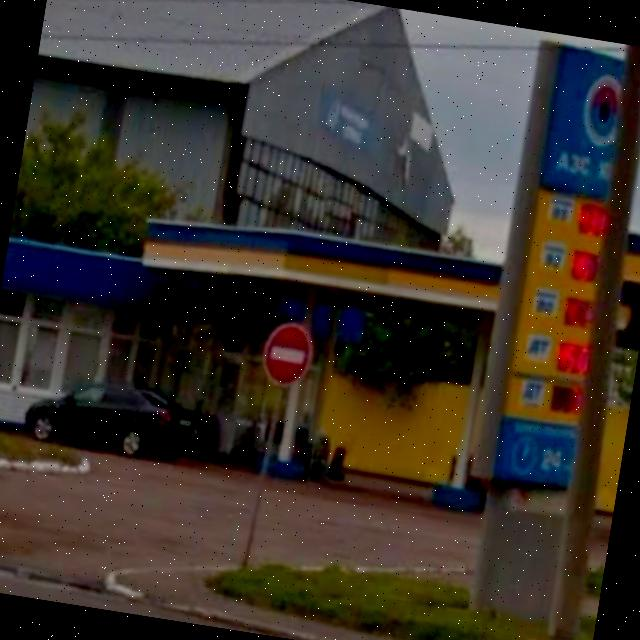Zakaz wjazdu: (254, 312, 322, 394)
